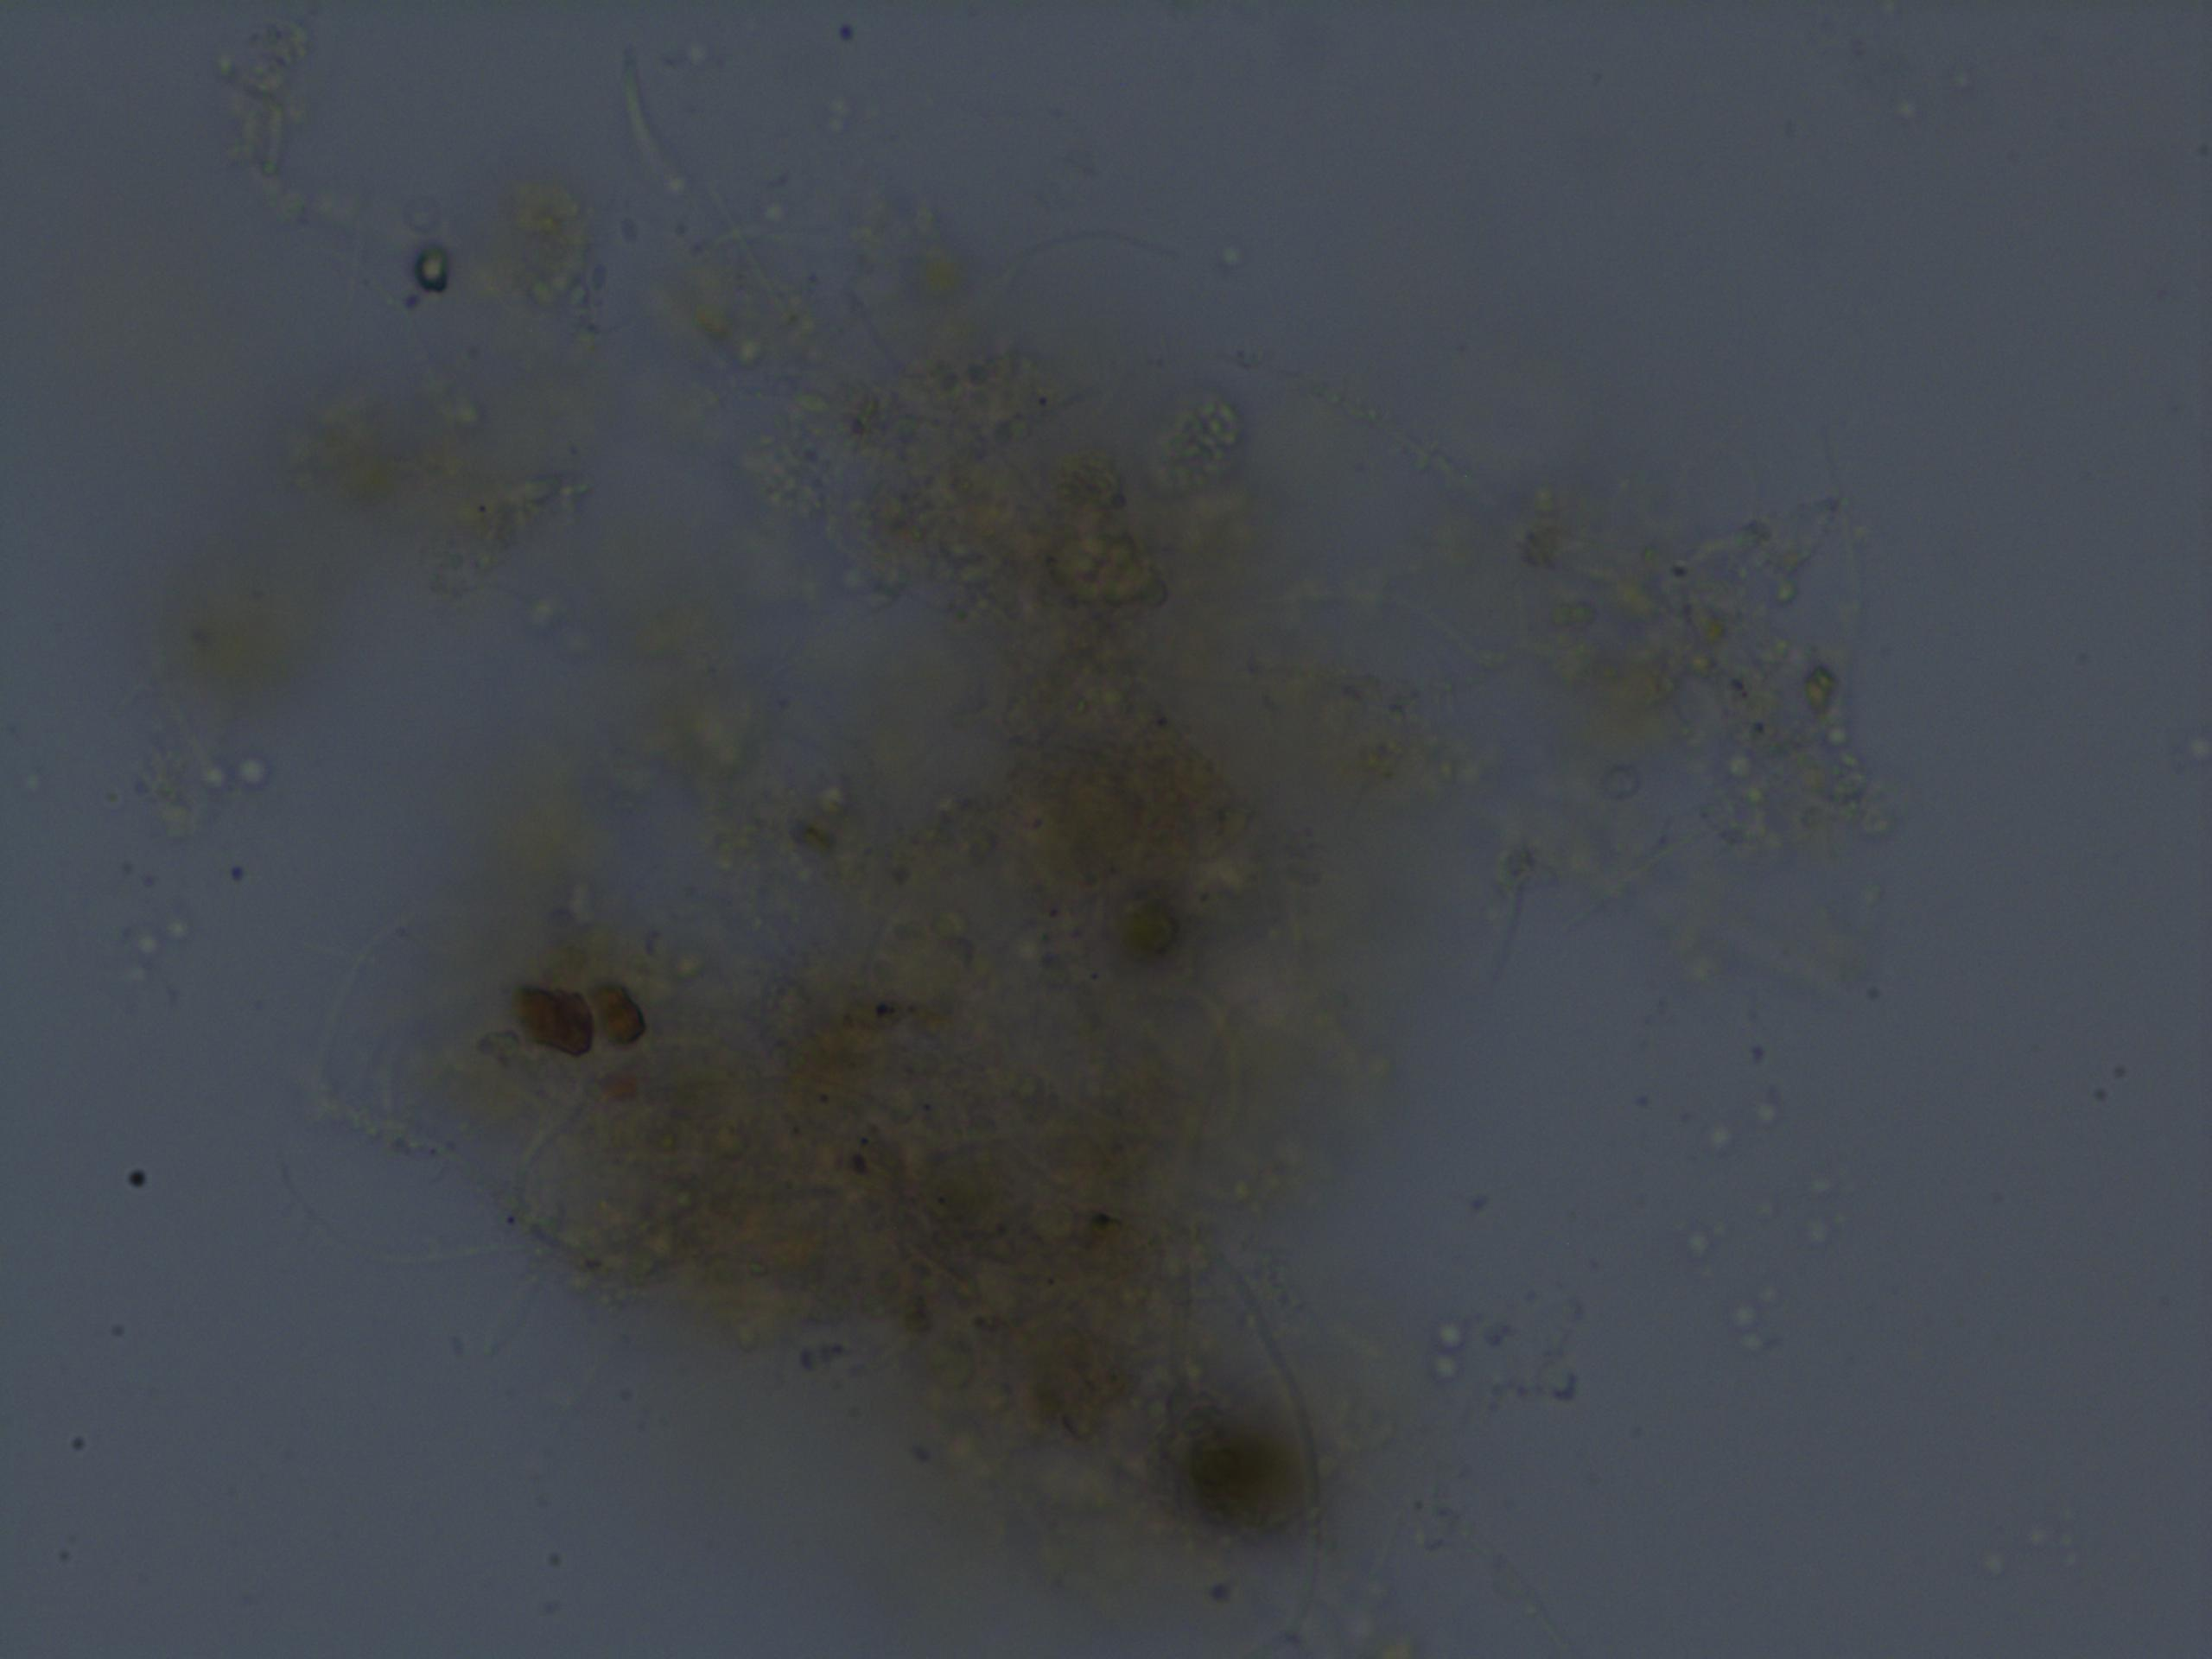open_floc: (145, 17, 1895, 1598)
